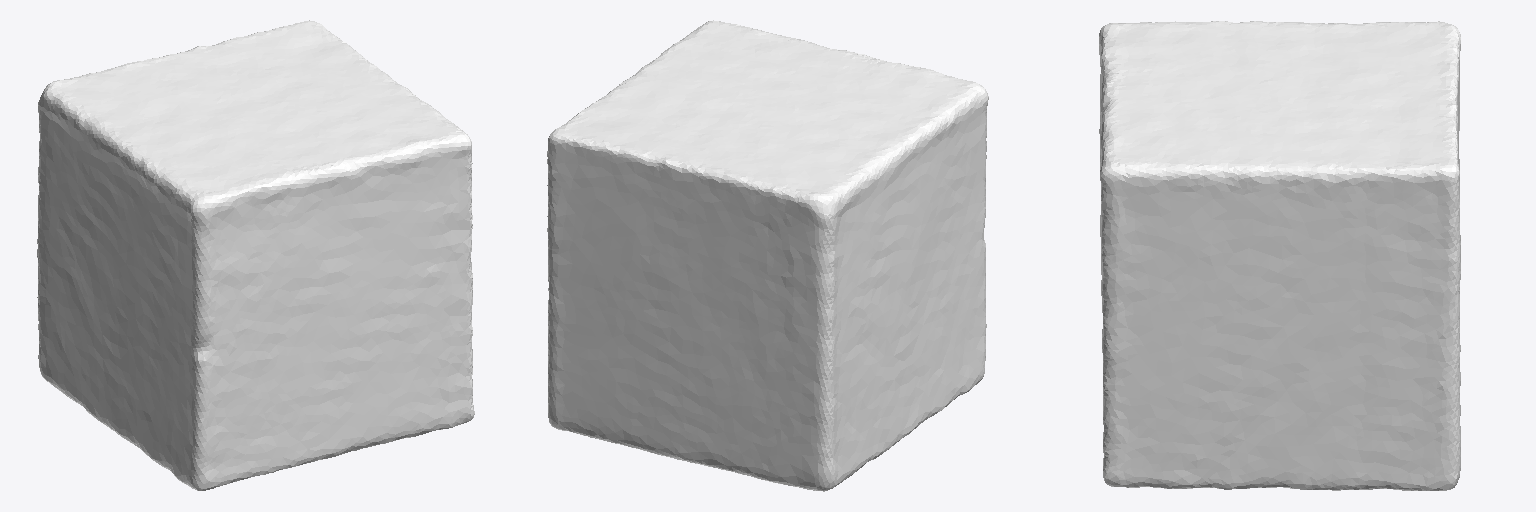
URDF robot description (b_colored_wood_blocks):
<robot name="b_colored_wood_blocks">
    <link name="base_link">
        <visual>
            <origin xyz="-0.0 -0.0 -0.0" rpy="0.0 0.0 0.0" />
            <geometry>
                <mesh filename="b_colored_wood_blocks/textured.obj" scale="1 1 1" />
            </geometry>
            <material name="texture">
                <color rgba="1.0 1.0 1.0 1.0" />
            </material>
        </visual>
        <collision>
            <origin xyz="-0.0 -0.0 -0.0" rpy="0.0 0.0 0.0" />
            <geometry>
                <mesh filename="b_colored_wood_blocks/textured_coacd_0.stl" scale="1 1 1" />
            </geometry>
        </collision>
        <collision>
            <origin xyz="-0.0 -0.0 -0.0" rpy="0.0 0.0 0.0" />
            <geometry>
                <mesh filename="b_colored_wood_blocks/textured_coacd_1.stl" scale="1 1 1" />
            </geometry>
        </collision>
        <collision>
            <origin xyz="-0.0 -0.0 -0.0" rpy="0.0 0.0 0.0" />
            <geometry>
                <mesh filename="b_colored_wood_blocks/textured_coacd_2.stl" scale="1 1 1" />
            </geometry>
        </collision>
        <collision>
            <origin xyz="-0.0 -0.0 -0.0" rpy="0.0 0.0 0.0" />
            <geometry>
                <mesh filename="b_colored_wood_blocks/textured_coacd_3.stl" scale="1 1 1" />
            </geometry>
        </collision>
        <collision>
            <origin xyz="-0.0 -0.0 -0.0" rpy="0.0 0.0 0.0" />
            <geometry>
                <mesh filename="b_colored_wood_blocks/textured_coacd_4.stl" scale="1 1 1" />
            </geometry>
        </collision>
        <inertial>
            <mass value="0.0108" />
            <inertia ixx="1e-3" ixy="0.0" ixz="0.0" iyy="1e-3" iyz="0.0" izz="1e-3" />
        </inertial>
    </link>
</robot>

--- Facts derived from the render (not from the file) ---
3 views of the same robot in one strip: view 1: azimuth 30°, elevation 25°; view 2: azimuth 150°, elevation 25°; view 3: azimuth 270°, elevation 25° (orthographic).
Robot: b_colored_wood_blocks — 1 links, 0 joints (none); root link base_link; default pose: every joint at zero.
Visible links, largest first — view 1: base_link; view 2: base_link; view 3: base_link.
Link boxes in pixels (x1,y1,x2,y2): base_link: (37, 20, 474, 490); base_link: (547, 20, 988, 491); base_link: (1099, 21, 1460, 490).
Size in the robot's own frame: 0.0258 by 0.0259 by 0.0258 metres.
Meshes: 1 distinct files referenced, 1 mesh visuals loaded (1 OBJ).